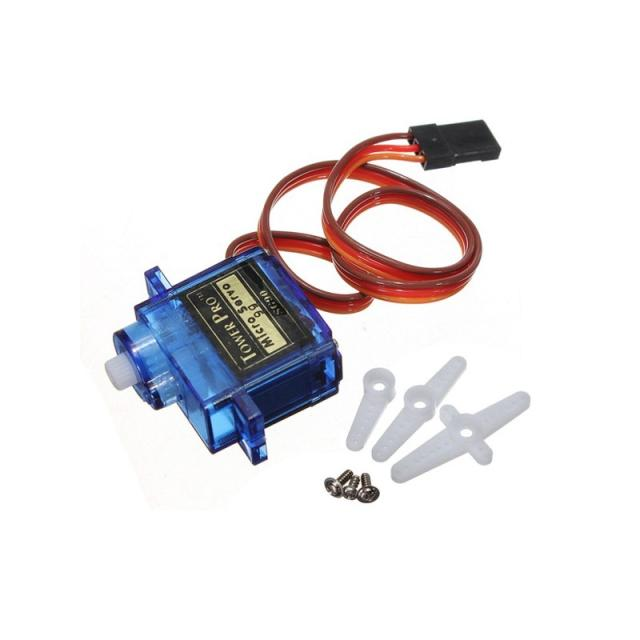servomotor: (74, 208, 394, 453)
